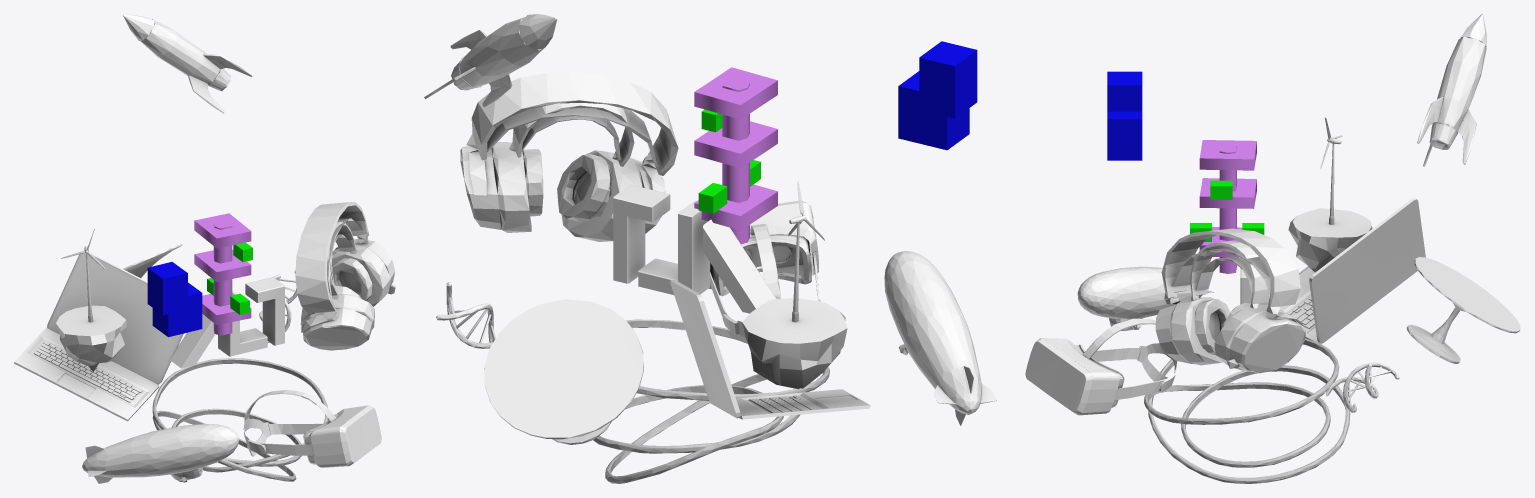
The picture shows the model from 3 angles, left to right: view 1: azimuth 30°, elevation 25°; view 2: azimuth 150°, elevation 25°; view 3: azimuth 270°, elevation 25°; orthographic projection. The views are drawn at different scales.
Visible parts, largest first — view 1: Notebook, Headphones.001, Zeppelin, VR Headset, tower, Altair Studio-Logo, Rocket.003, Roundcube.001, Curly, 3, Headphones, Table; view 2: Table, Headphones.001, Altair Studio-Logo, tower, Zeppelin, Roundcube.001, 3, Curly, Headphones, Notebook, VR Headset, Rocket.003 (+1 smaller); view 3: Headphones.001, Notebook, VR Headset, Curly, tower, Rocket.003, Zeppelin, Table, Roundcube.001, Headphones, 3, DNA.
Part boxes in pixels (x1,y1,x2,y2): Notebook: [14, 250, 183, 421]; Headphones.001: [295, 201, 395, 350]; Zeppelin: [82, 424, 239, 483]; VR Headset: [243, 390, 381, 467]; tower: [194, 213, 252, 335]; Altair Studio-Logo: [170, 277, 284, 368]; Rocket.003: [122, 14, 252, 113]; Roundcube.001: [56, 229, 126, 371]; Curly: [152, 358, 327, 481]; 3: [147, 262, 202, 337]; Headphones: [327, 221, 372, 301]; Table: [122, 244, 182, 277]; Table: [484, 299, 643, 444]; Headphones.001: [460, 72, 678, 241]; Altair Studio-Logo: [613, 185, 776, 313]; tower: [694, 67, 777, 244]; Zeppelin: [884, 251, 996, 425]; Roundcube.001: [742, 180, 847, 389]; 3: [898, 41, 977, 150]; Curly: [593, 319, 829, 483]; Headphones: [509, 103, 634, 221]; Notebook: [670, 279, 870, 419]; VR Headset: [708, 201, 820, 337]; Rocket.003: [424, 14, 557, 107]; Headphones.001: [1155, 228, 1305, 373]; Notebook: [1269, 197, 1425, 343]; VR Headset: [1025, 318, 1177, 415]; Curly: [1144, 338, 1350, 483]; tower: [1190, 140, 1264, 273]; Rocket.003: [1417, 14, 1486, 166]; Zeppelin: [1077, 266, 1213, 330]; Table: [1406, 257, 1520, 363]; Roundcube.001: [1288, 117, 1372, 272]; Headphones: [1189, 241, 1268, 354]; 3: [1107, 71, 1142, 160]; DNA: [1325, 362, 1399, 412].
Bounding box in the file's own units: 68.29 × 75.73 × 77.01.
